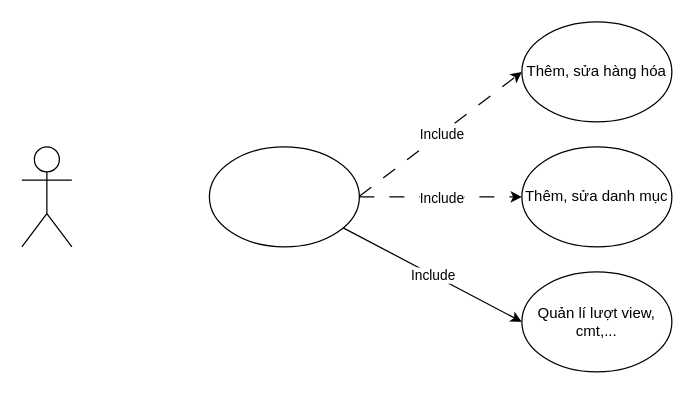
Some shapes in this 694 by 394 pixel diagram are drawn without their labels. Here are the shapes that lost their labels. From the top down, the box of each, then its label:
(21, 146, 72, 247): Admin
(208, 146, 359, 247): Quản lí hàng
